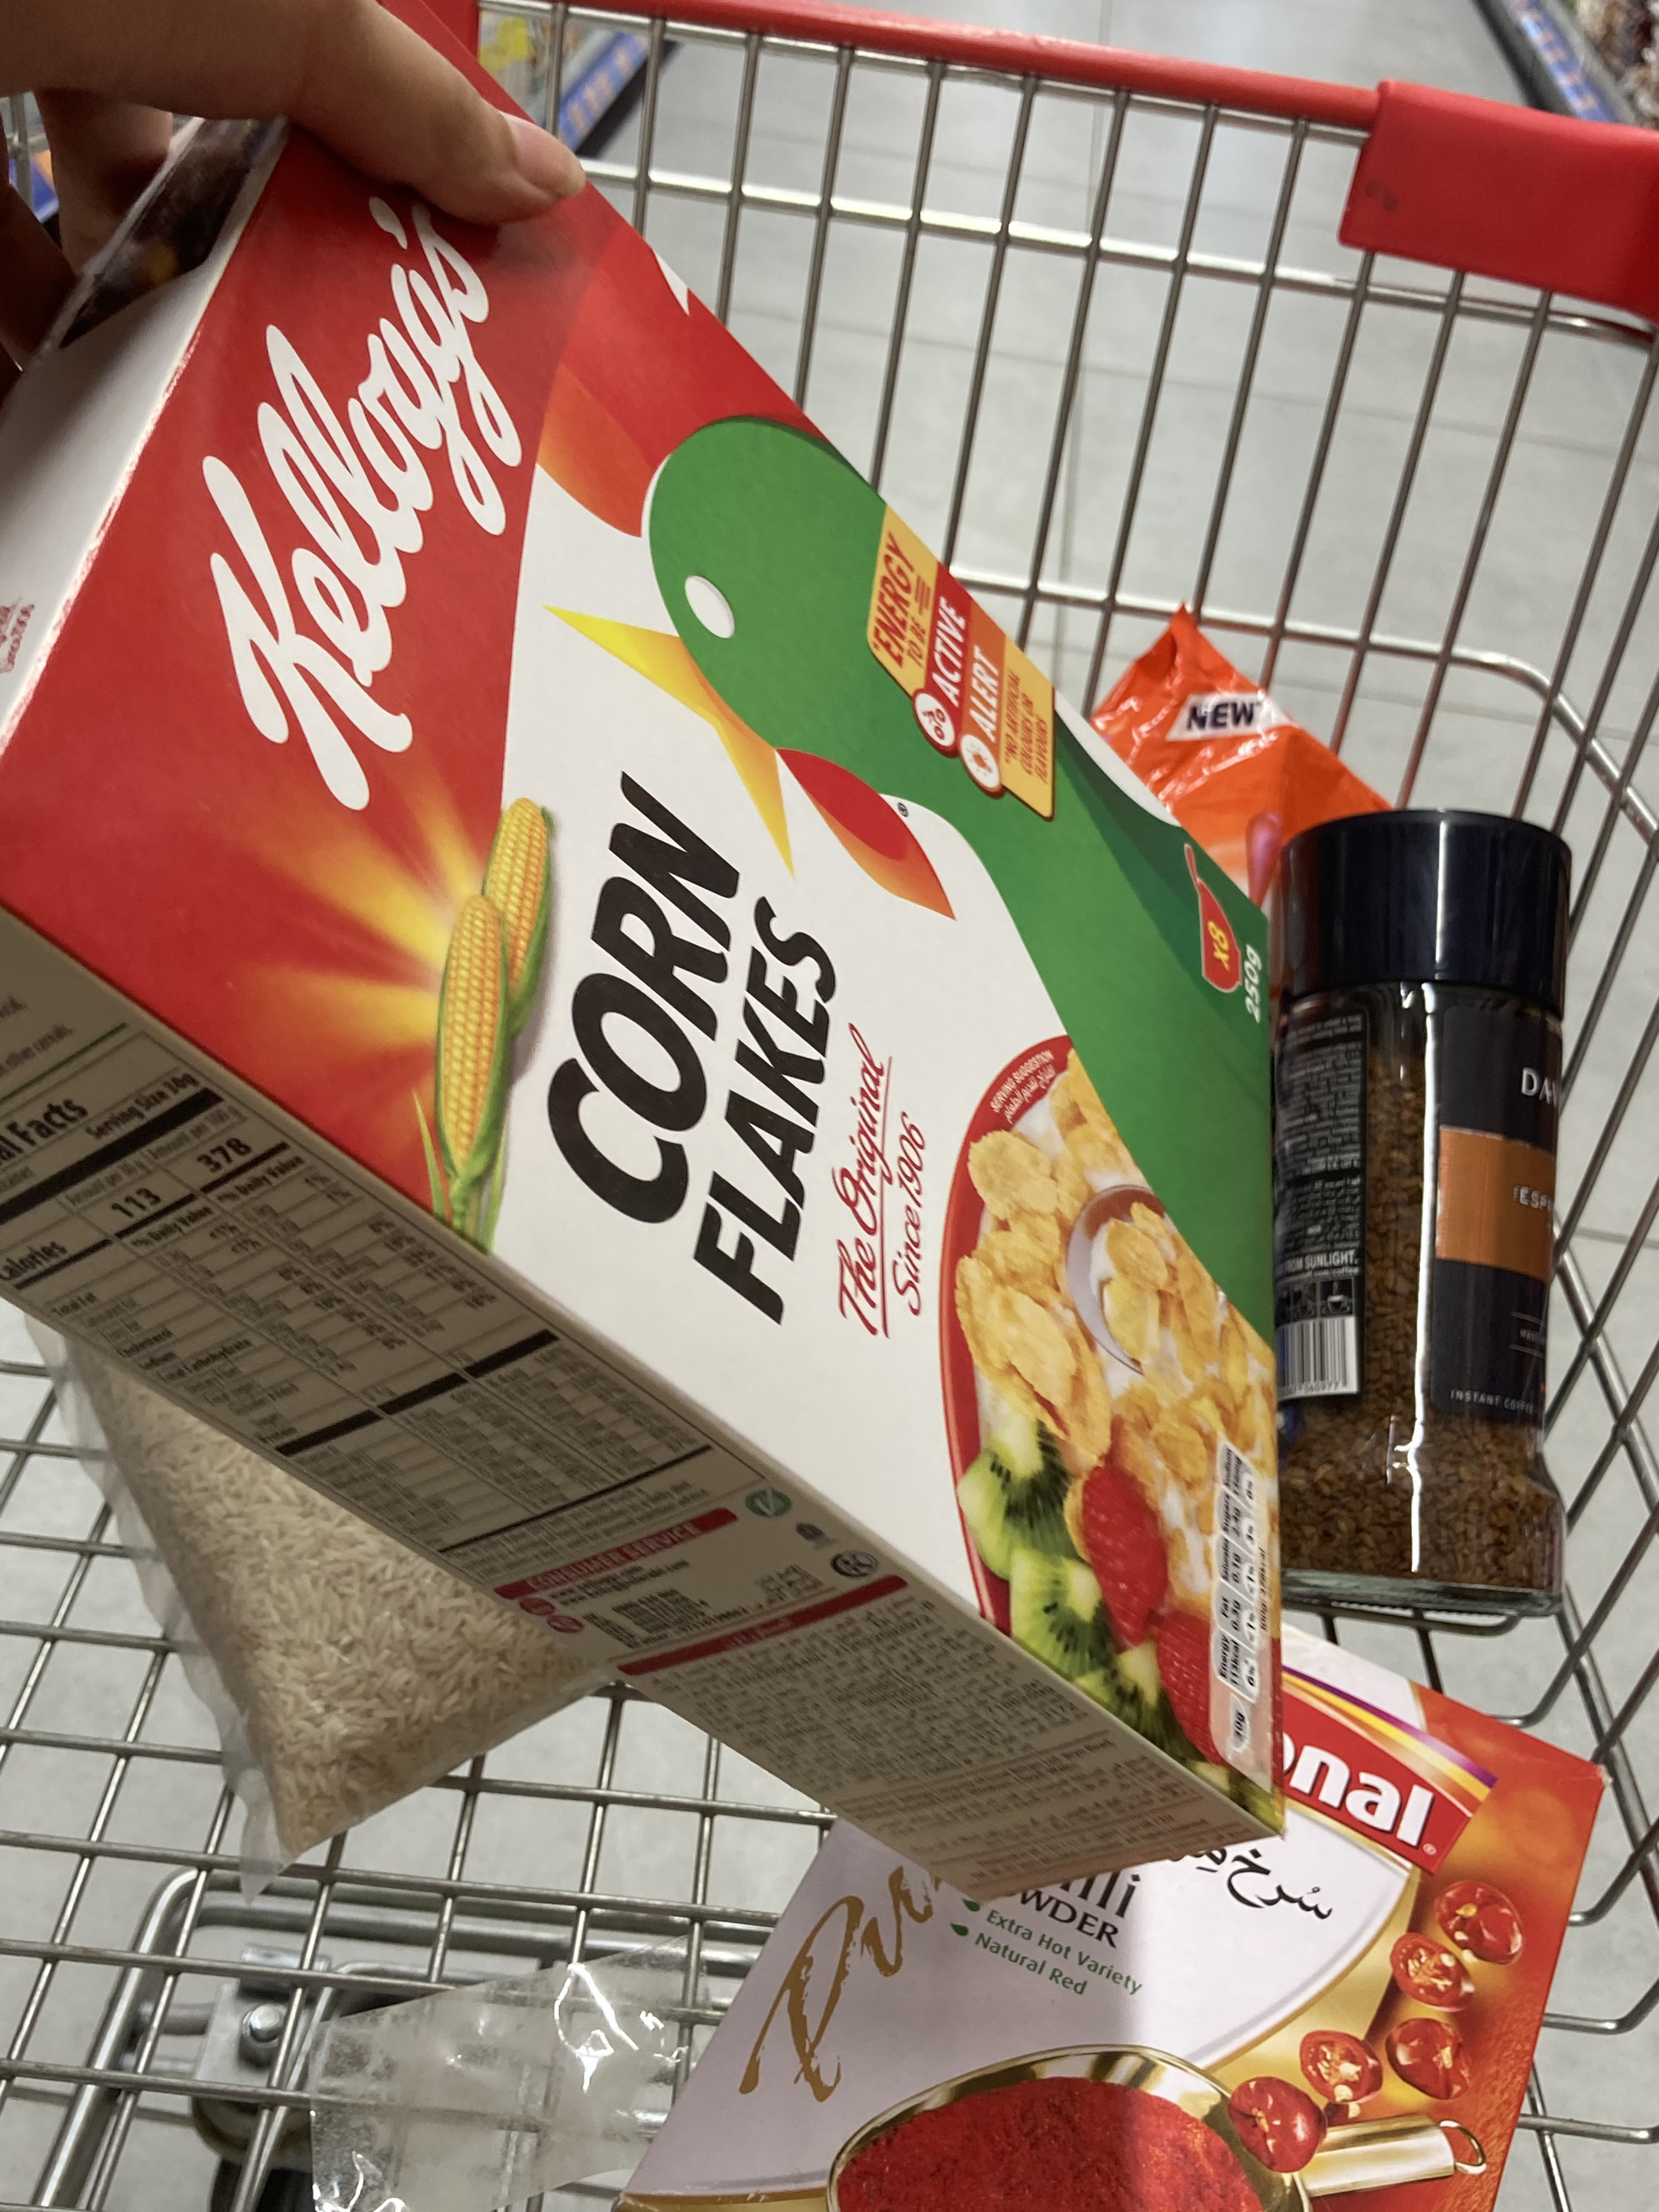Kellogg's Corn Flakes: (9, 12, 1304, 1898)
